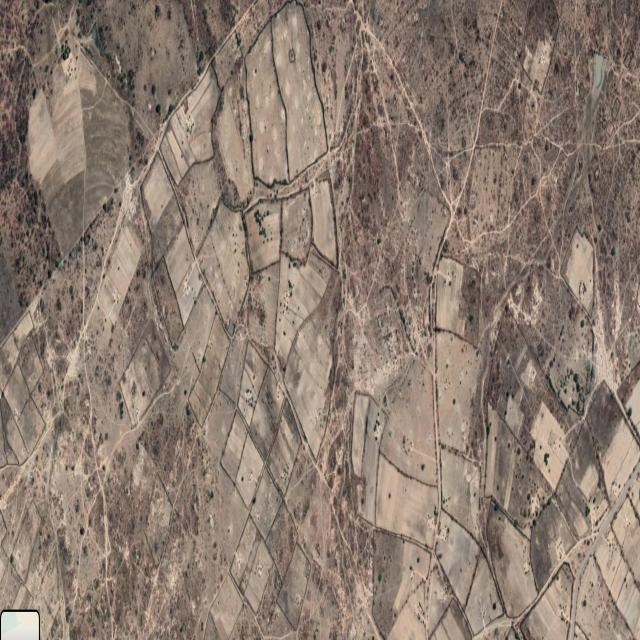boundaries: (429, 289, 452, 510)
